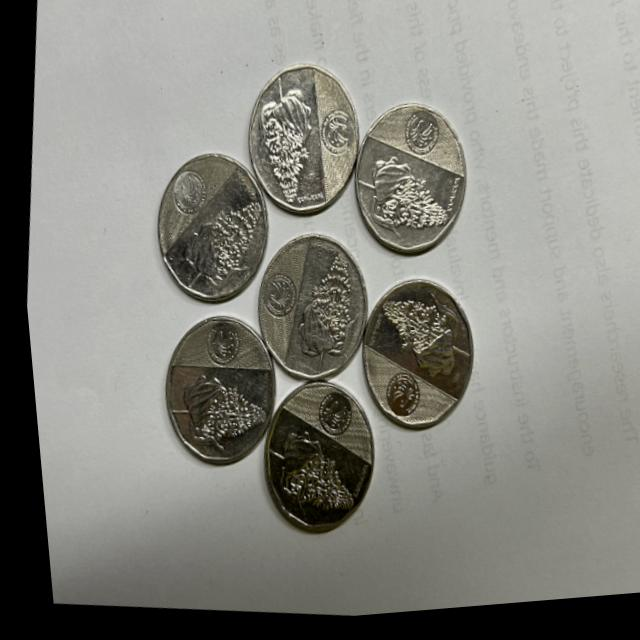10_New_Back: (156, 347, 270, 465), (280, 237, 366, 386), (368, 275, 470, 400), (241, 78, 326, 220), (353, 155, 456, 270), (164, 207, 270, 313), (265, 433, 354, 535)
